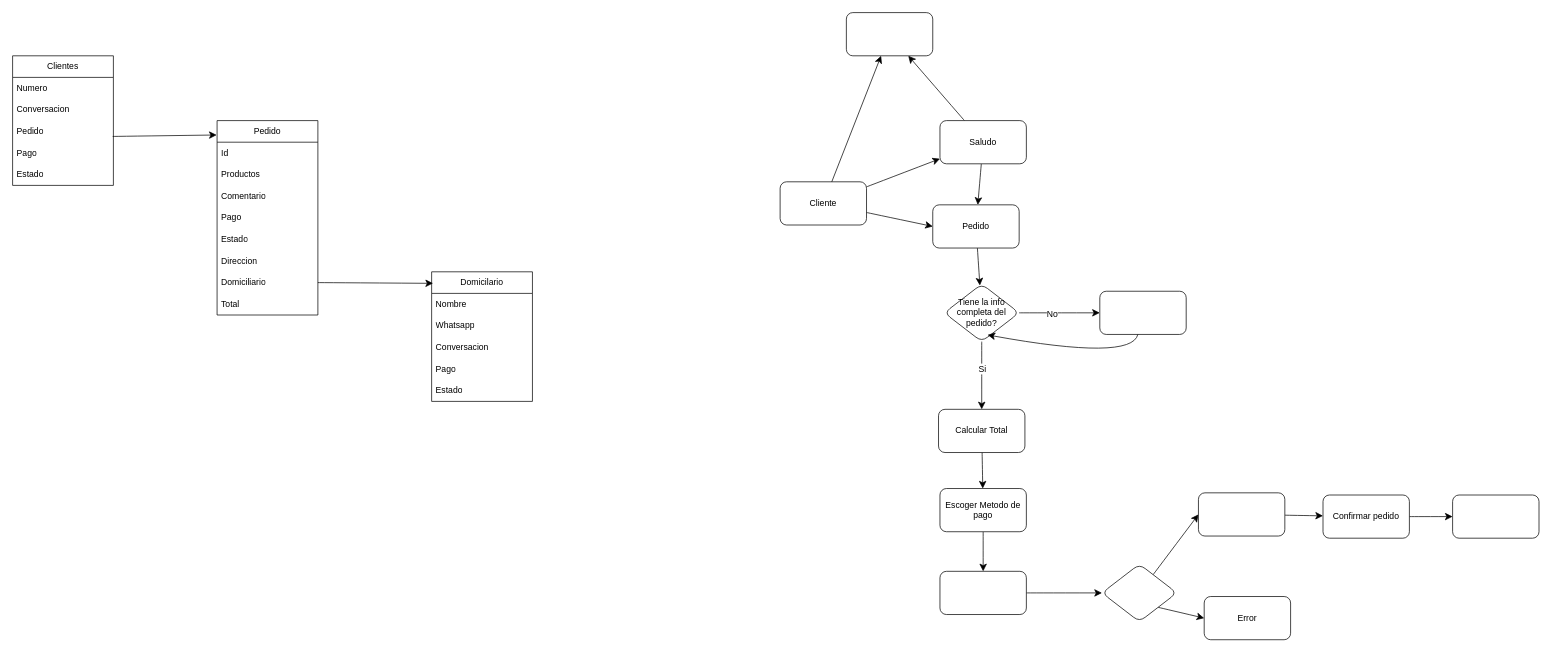
Some shapes in this 1552 by 652 pixel diagram are drawn without their labels. Each missing label, with the centre of its shape:
"Enviar a Cocina" belongs at point (1241, 514).
"Enviar al domiciliario" belongs at point (1495, 516).
"Enviar modo de pago con total" belongs at point (982, 593).
"Pago correcto" belongs at point (1139, 592).
"Pedir Los datos" belongs at point (1142, 312).
"Pregunta" belongs at point (889, 34).
